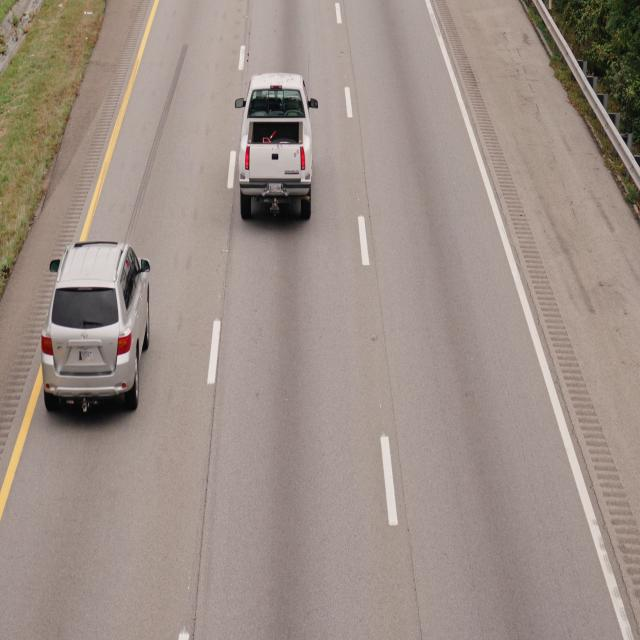Car: (40, 239, 156, 421), (233, 65, 323, 225)
